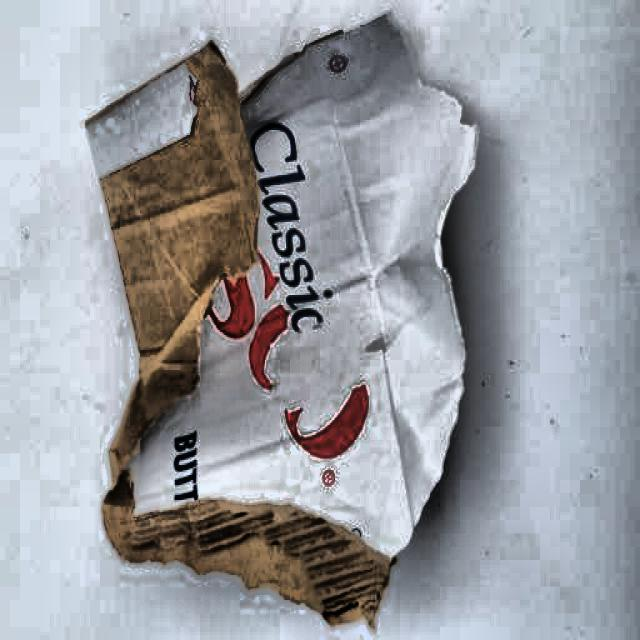cardboard: (84, 13, 472, 614)
